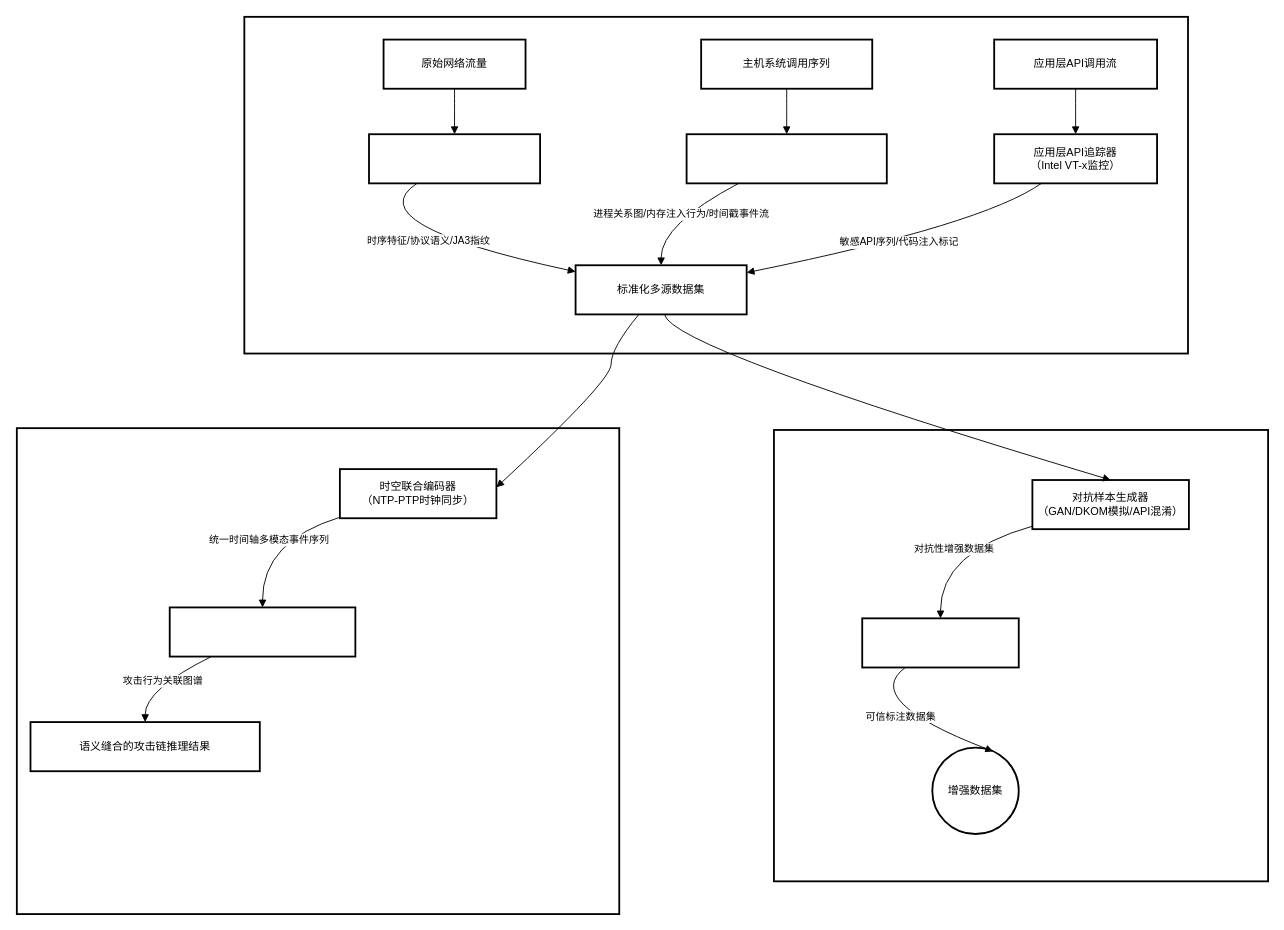
This 1284x930 diagram has some shape labels left out. Here are the shapes that lost their labels. From the top down, the box of each, then its label:
(368, 133, 541, 184): 网络层特征提取器 （改进型Suricata探针）
(685, 133, 887, 184): 主机层进程图谱构建器 （内核态ProcMon增强）
(168, 606, 356, 657): 跨层异构图神经网络 （GATv2多头注意力）
(861, 617, 1019, 668): 司法级验证模块 （CNNVD双盲标注）
